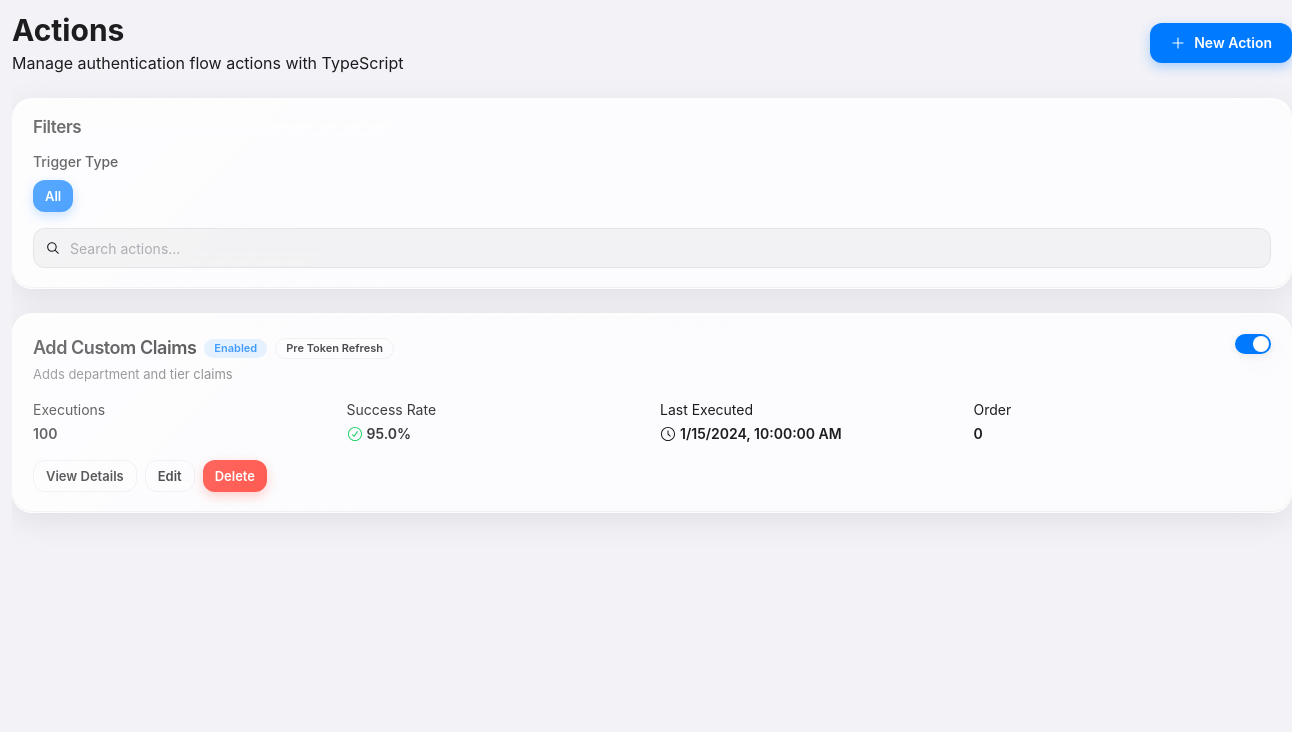
Scenario: Actions List Page › shows empty message when search returns no results
Expected: the link "Add Custom Claims" is shown, [33,337,196,358]
In the search field with placeholder "Search actions...": {"x": 652, "y": 248} [33,228,1271,268], type "nonexistent"
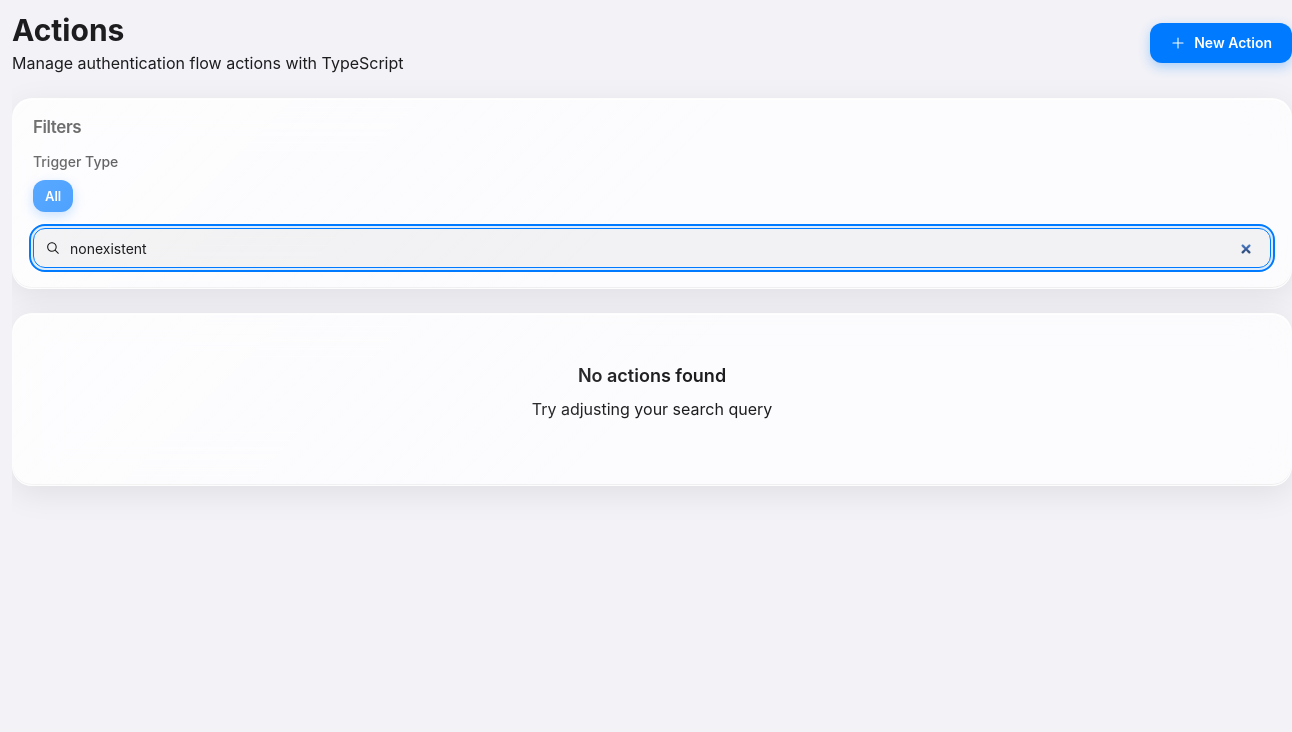
Expected: the heading "No actions found" is shown, [578,365,726,386]
Expected: the text "Try adjusting your search query" is shown, [532,399,772,419]
